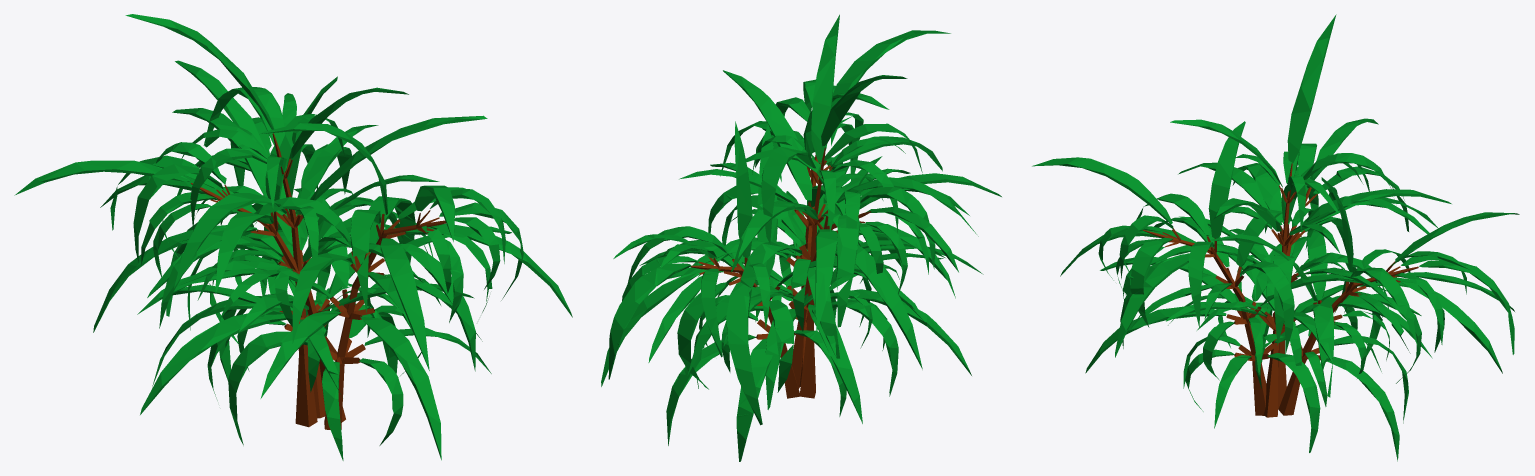
The model's file is ShrubDraca04.fbx.
The picture shows the model from 3 angles, left to right: view 1: azimuth 30°, elevation 25°; view 2: azimuth 150°, elevation 25°; view 3: azimuth 270°, elevation 25°; orthographic projection. The views are drawn at different scales.
Visible parts, largest first — view 1: ShrubDraca04_LOD0; view 2: ShrubDraca04_LOD0; view 3: ShrubDraca04_LOD0.
Part boxes in pixels (box(x1,y1,x2,y2)): ShrubDraca04_LOD0: box(14, 14, 572, 460); ShrubDraca04_LOD0: box(601, 14, 1001, 461); ShrubDraca04_LOD0: box(1032, 14, 1519, 461).
Size of what is drawn, in the model's own units: 120 by 129 by 160.
